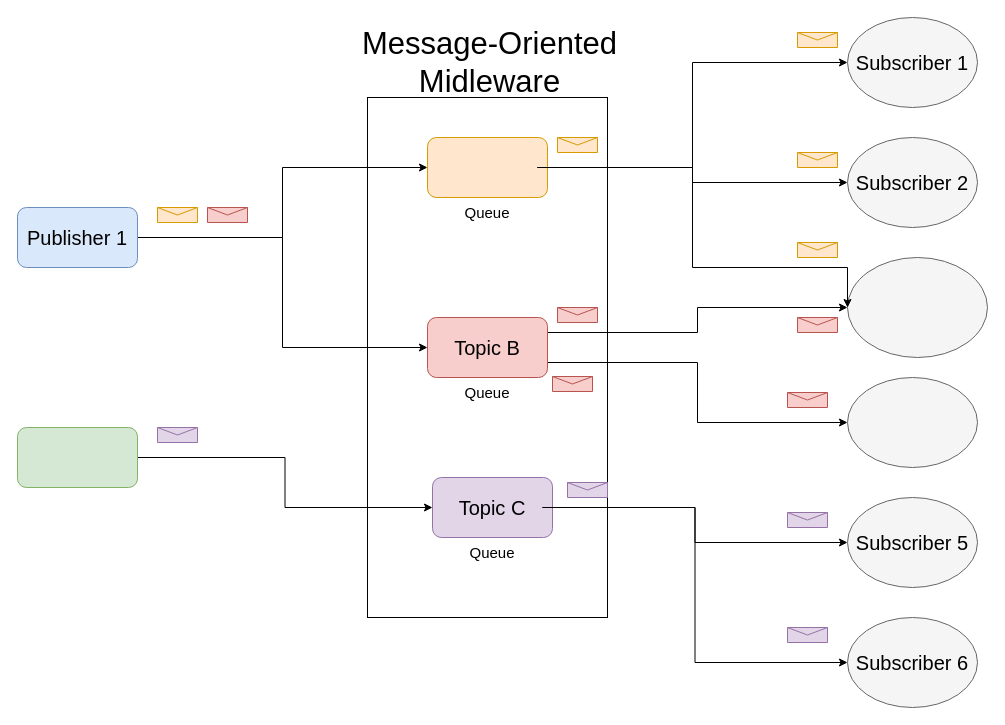
Some shapes in this 1005 by 725 pixel diagram are drawn without their labels. The shapes that lost their labels are listed below. From the top down, each one's box as (x1, y1, x2, y2) in pixels, then its label:
(426, 136, 548, 198): Topic A
(846, 256, 988, 358): Subscriber 3
(846, 376, 978, 468): Subscriber 4
(16, 426, 138, 488): Publisher 2
